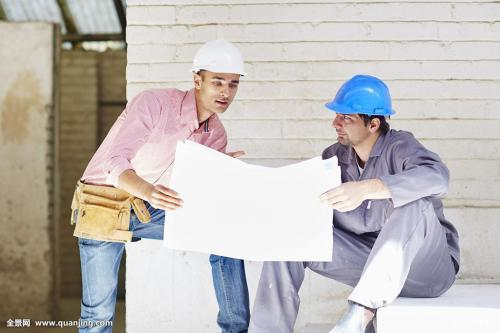helmet: (320, 63, 399, 152), (187, 34, 254, 119)
